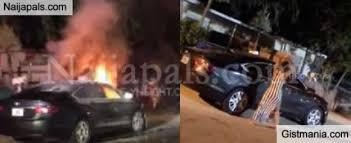fire: (88, 58, 123, 96)
